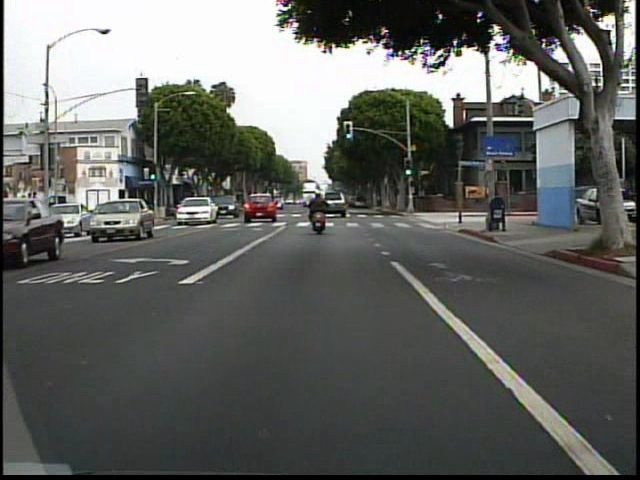person: (306, 185, 337, 243)
